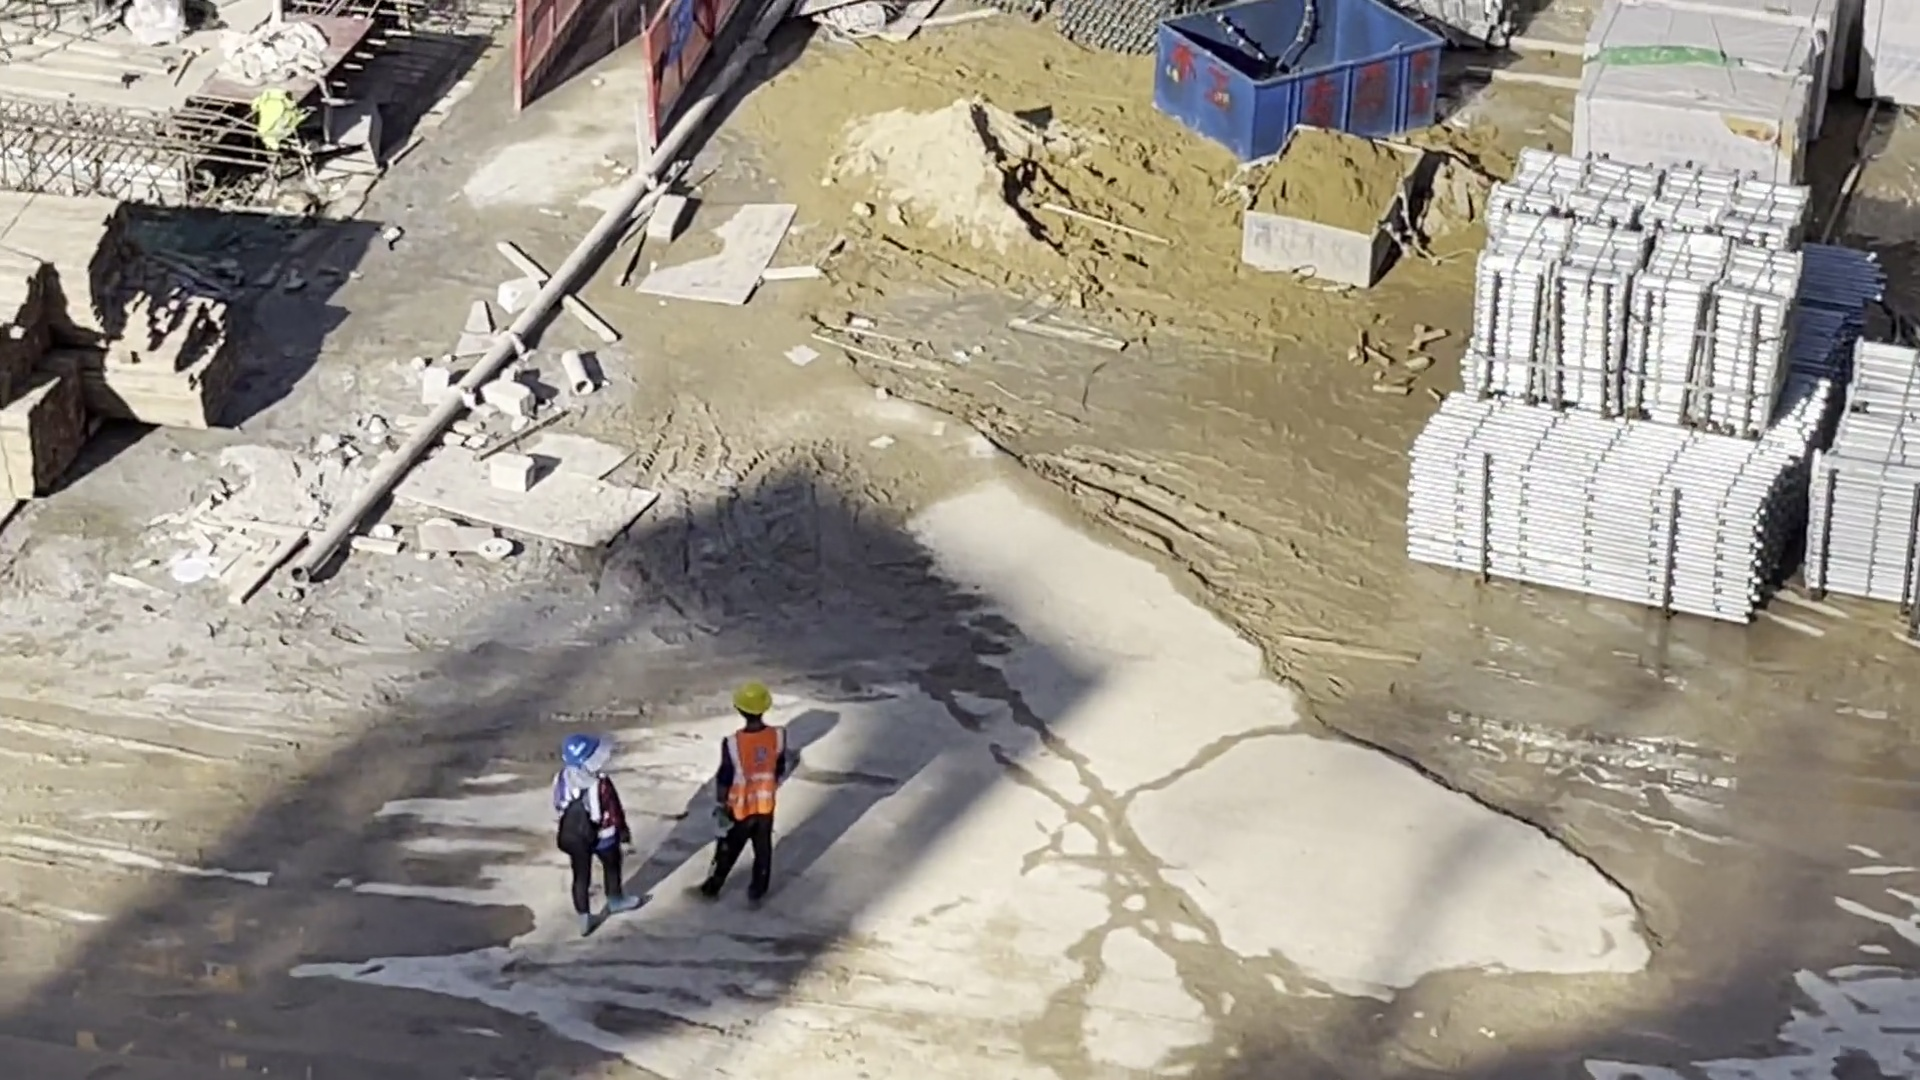fence: (519, 1, 725, 101)
helmet: (732, 686, 772, 714), (563, 734, 600, 761)
hopper: (1162, 3, 1440, 161), (1243, 127, 1428, 289)
person: (558, 741, 639, 931), (709, 687, 775, 912)
scaffold: (1475, 150, 1806, 435), (1413, 392, 1801, 612), (1811, 347, 1920, 605)
slogan: (671, 1, 696, 54)
vest: (547, 777, 621, 849), (727, 735, 782, 823)
wood: (1, 198, 238, 424)
